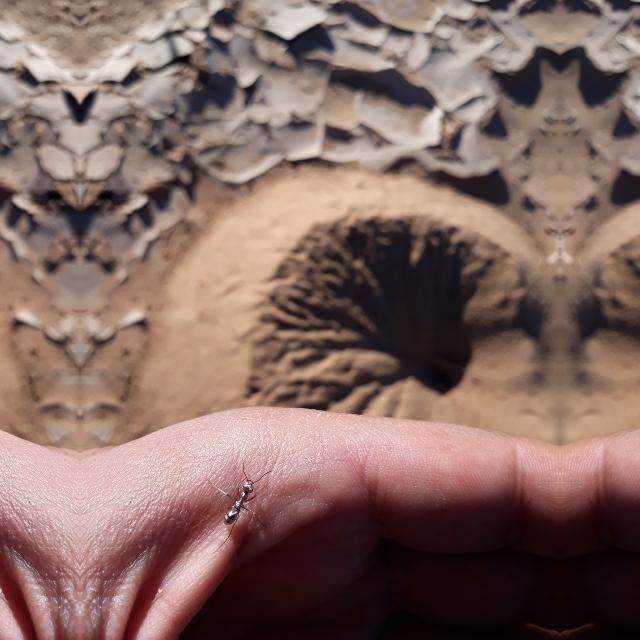Cataglyphis: (218, 467, 262, 533)
